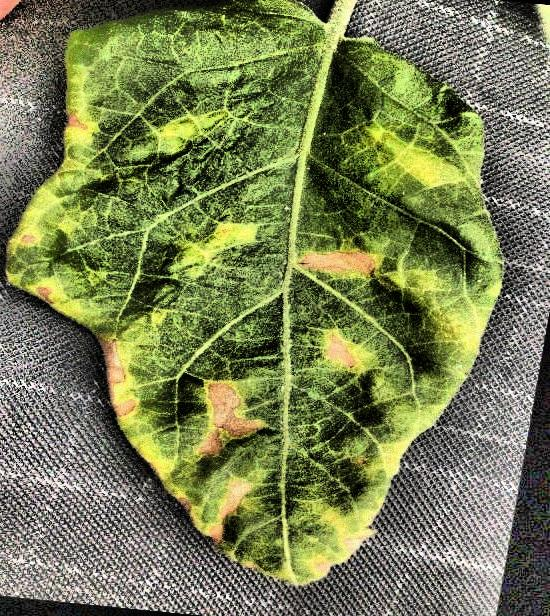Critical Stress: (0, 1, 550, 616)
